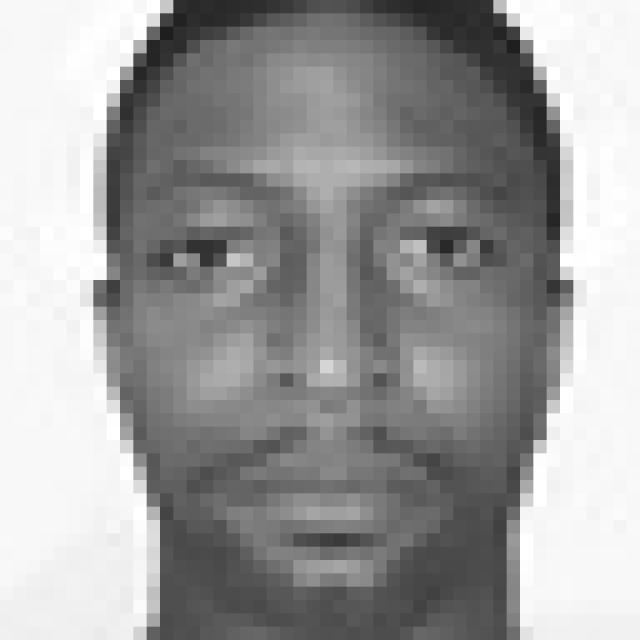neutral: (144, 160, 514, 559)
